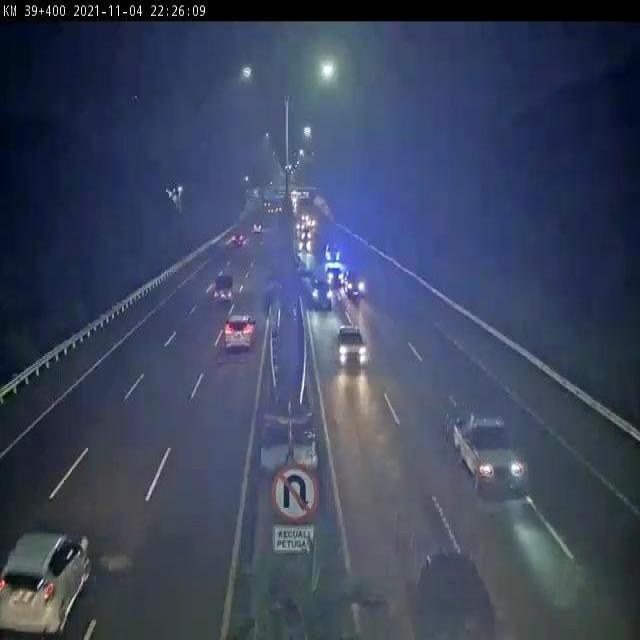car: (0, 518, 88, 638), (405, 534, 503, 640), (446, 396, 528, 501), (328, 309, 371, 375), (215, 313, 260, 367), (305, 266, 332, 318), (345, 268, 368, 308)
truck-s-: (205, 260, 238, 311)
